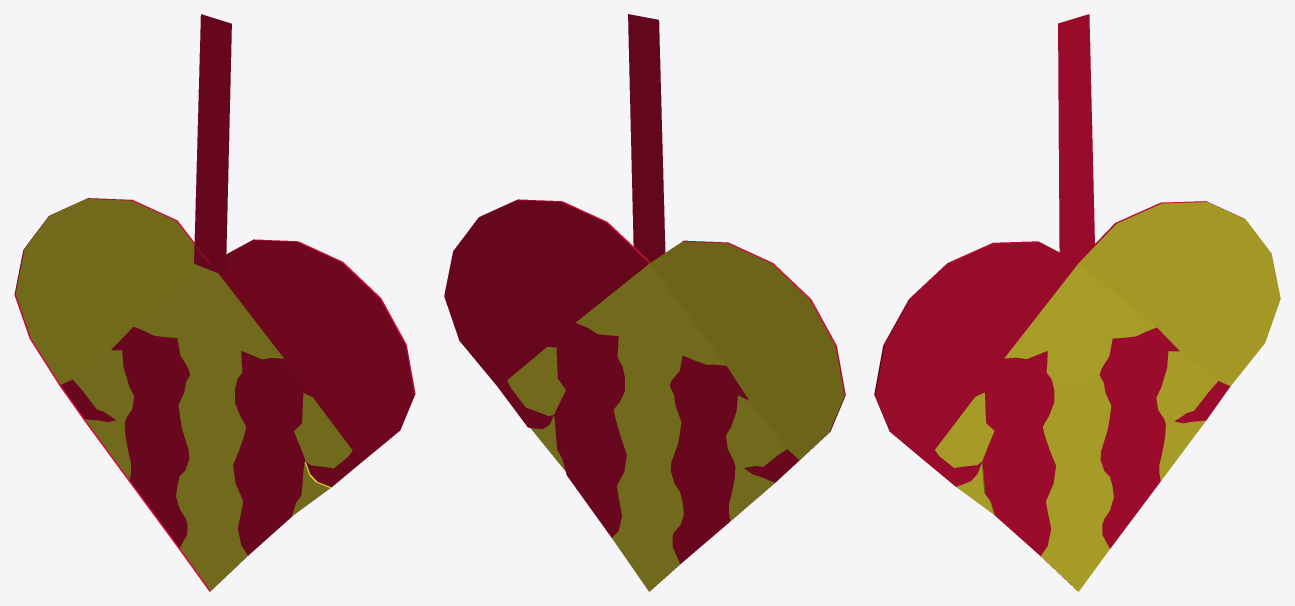
Rendered from heart7.glb.
3 renders of one model, left to right at view 1: azimuth 30°, elevation 25°; view 2: azimuth 210°, elevation 25°; view 3: azimuth 270°, elevation 25°, orthographic.
Parts seen in each view (by area): view 1: heart7; view 2: heart7; view 3: heart7.
Boxes of the visible parts, x1,y1,x2,y2 form: heart7: (14,14,415,591); heart7: (444,14,845,591); heart7: (874,14,1280,591).
Bounding box in the file's own units: 0.0678 × 0.1863 × 0.1192.
